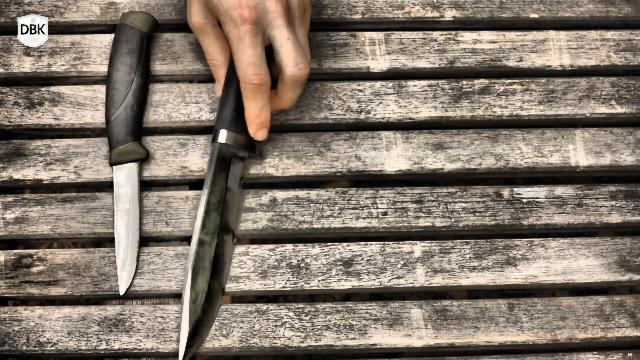knife: (174, 85, 310, 359), (91, 131, 155, 313)
